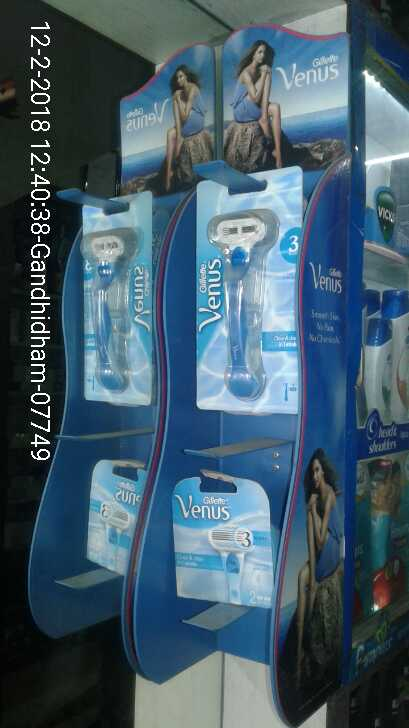venus: (193, 168, 307, 418), (77, 191, 152, 399), (173, 474, 281, 615), (87, 458, 153, 567)
